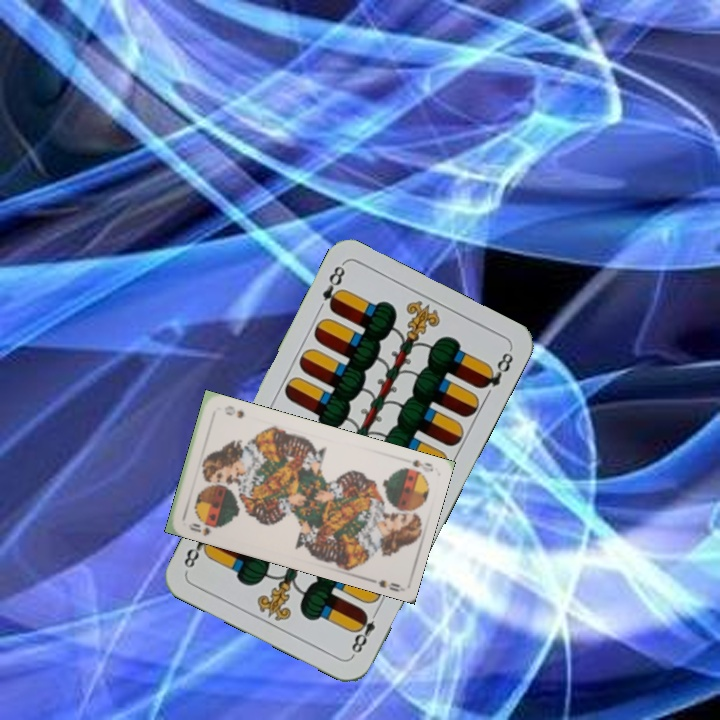E8: (347, 604, 382, 659), (318, 260, 348, 315)
SO: (185, 519, 213, 539), (408, 456, 436, 474)
